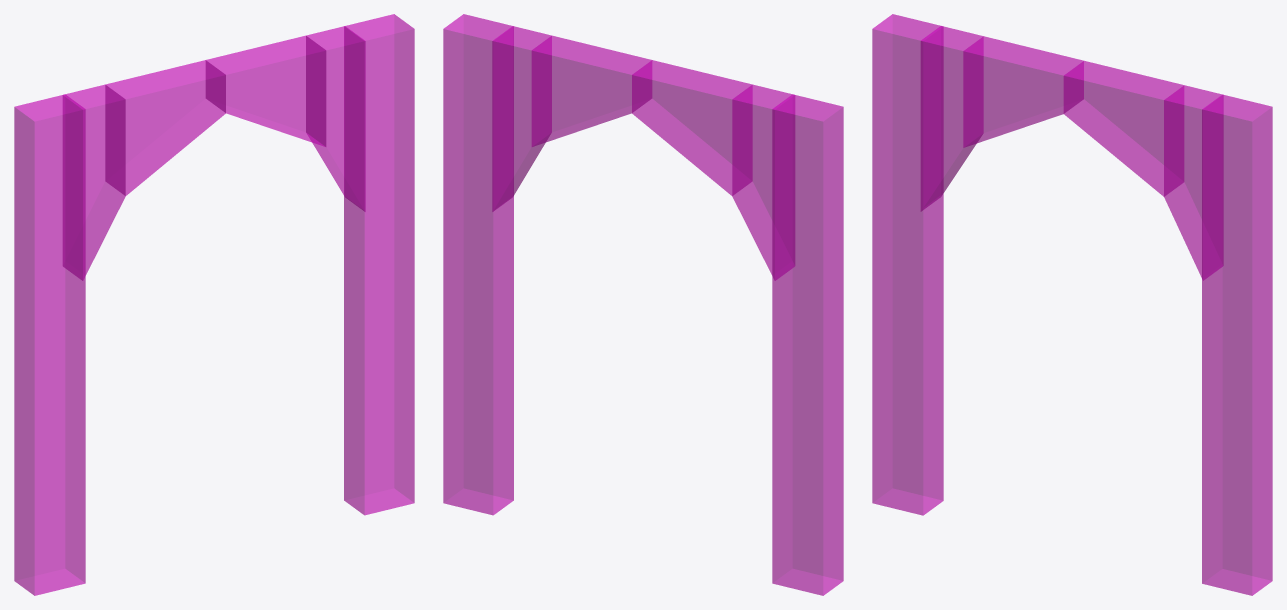
Rendered from SM_Bld_Wall_Door_Large_03_Collision.fbx.
The picture shows the model from 3 angles, left to right: view 1: azimuth 30°, elevation 25°; view 2: azimuth 150°, elevation 25°; view 3: azimuth 330°, elevation 25°; orthographic projection.
Visible parts, largest first — view 1: SM_Bld_Wall_Door_Large_03_Collision; view 2: SM_Bld_Wall_Door_Large_03_Collision; view 3: SM_Bld_Wall_Door_Large_03_Collision.
Boxes of the visible parts, x1,y1,x2,y2 form: SM_Bld_Wall_Door_Large_03_Collision: [14, 14, 414, 595]; SM_Bld_Wall_Door_Large_03_Collision: [443, 14, 843, 595]; SM_Bld_Wall_Door_Large_03_Collision: [872, 14, 1272, 595].
Size of the model in its own units: 504 by 601 by 46.86.
